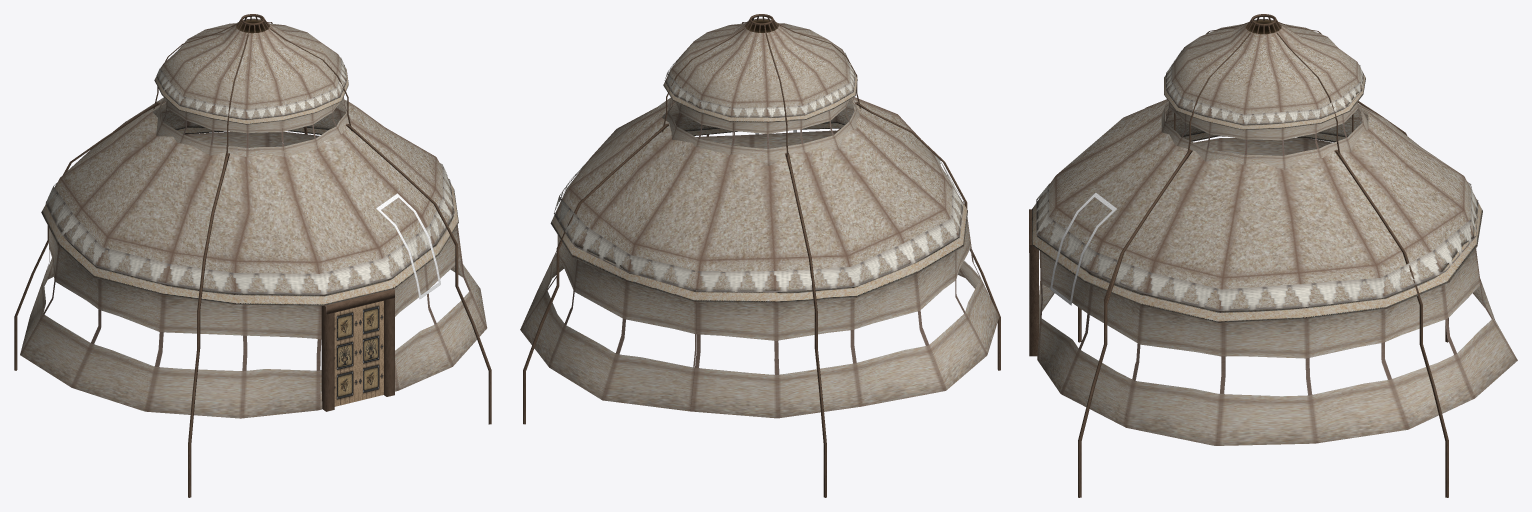
File: step_civic_centre_01.dae
3 views of the same model, side by side, from view 1: azimuth 30°, elevation 25°; view 2: azimuth 150°, elevation 25°; view 3: azimuth 270°, elevation 25° (orthographic). The views are drawn at different scales.
Parts seen in each view (by area): view 1: Yurt-Roof.003; view 2: Yurt-Roof.003; view 3: Yurt-Roof.003.
Boxes of the visible parts, x1=… form: Yurt-Roof.003: x1=14, y1=14, x2=491, y2=497; Yurt-Roof.003: x1=520, y1=14, x2=1000, y2=497; Yurt-Roof.003: x1=1029, y1=14, x2=1517, y2=497.
Bounding box in the file's own units: 30.18 × 29.19 × 26.39.
